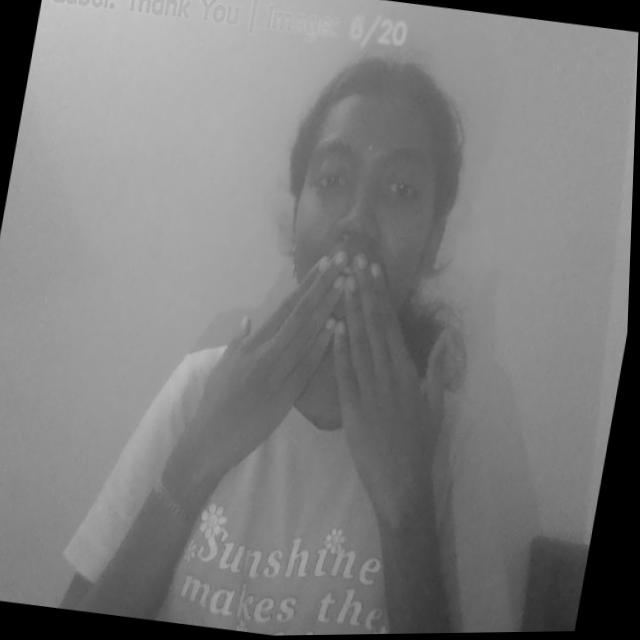Thank You: (156, 226, 487, 554)
